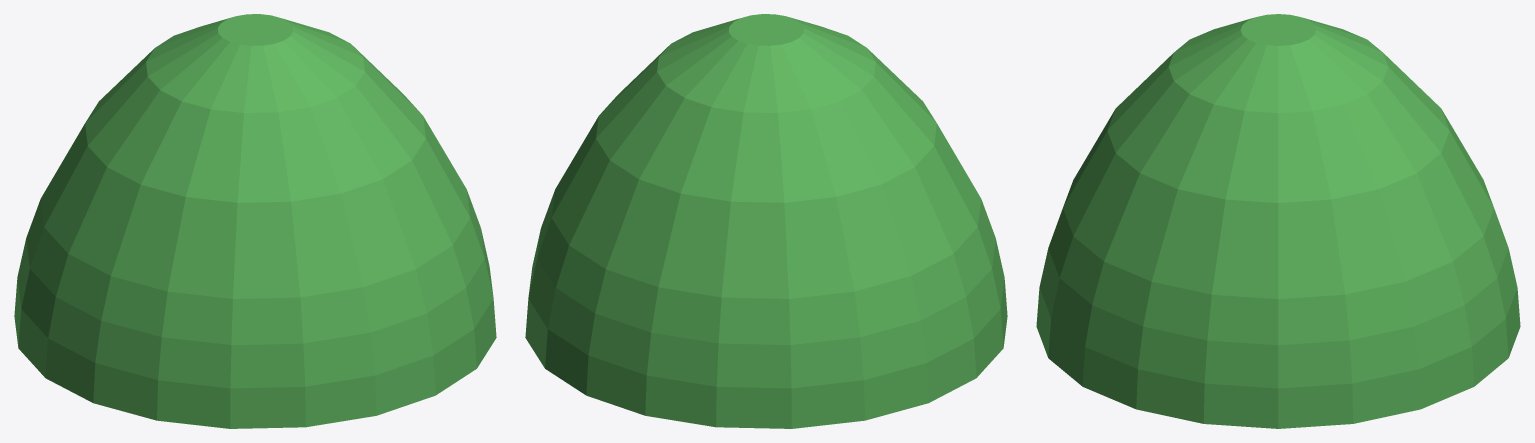
The model's file is slimeModel.fbx.
3 renders of one model, left to right at view 1: azimuth 30°, elevation 25°; view 2: azimuth 150°, elevation 25°; view 3: azimuth 270°, elevation 25°, orthographic.
Parts seen in each view (by area): view 1: pSphere1; view 2: pSphere1; view 3: pSphere1.
Boxes of the visible parts, x1=… form: pSphere1: x1=14, y1=14, x2=496, y2=428; pSphere1: x1=525, y1=14, x2=1007, y2=428; pSphere1: x1=1036, y1=14, x2=1520, y2=428.
Bounding box in the file's own units: 4.5 × 3.04 × 4.5.
